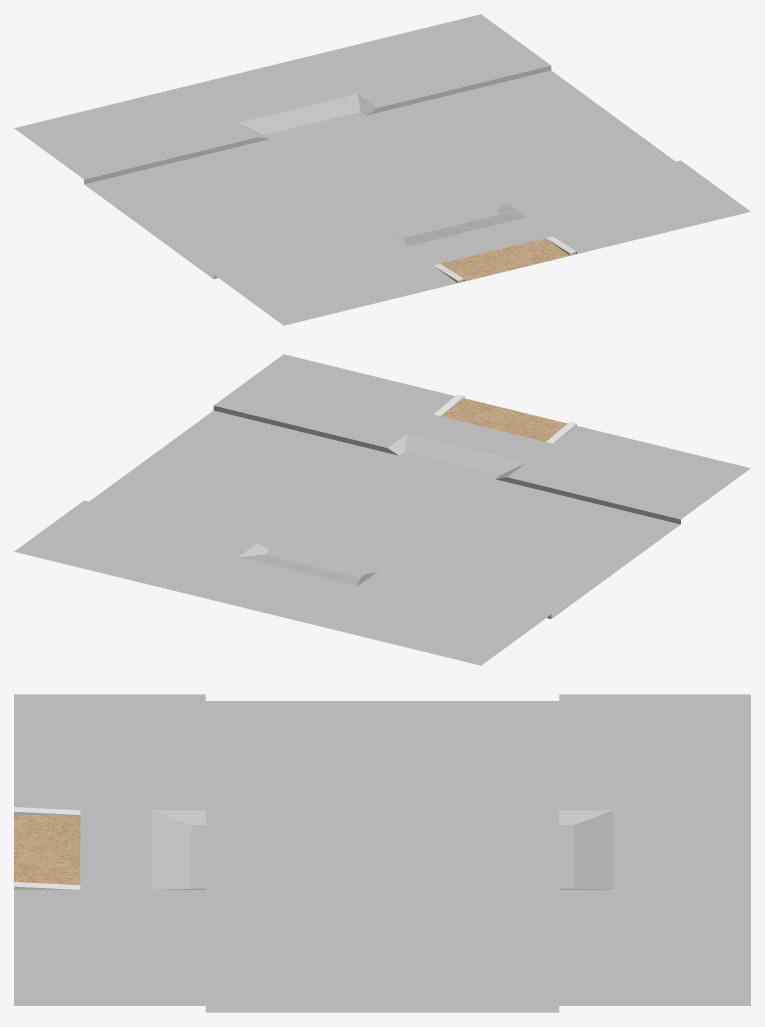
Rendered from Park_Gates_1.fbx.
The picture shows the model from 3 angles, top to bottom: view 1: azimuth 30°, elevation 25°; view 2: azimuth 150°, elevation 25°; view 3: azimuth 270°, elevation 25°; orthographic projection. The views are drawn at different scales.
Parts seen in each view (by area): view 1: Park_Gates_1; view 2: Park_Gates_1; view 3: Park_Gates_1.
Boxes of the visible parts, x1,y1,x2,y2 form: Park_Gates_1: [14, 14, 750, 325]; Park_Gates_1: [14, 354, 750, 665]; Park_Gates_1: [14, 694, 750, 1012].
Bounding box in the file's own units: 2000 × 30 × 2000.
